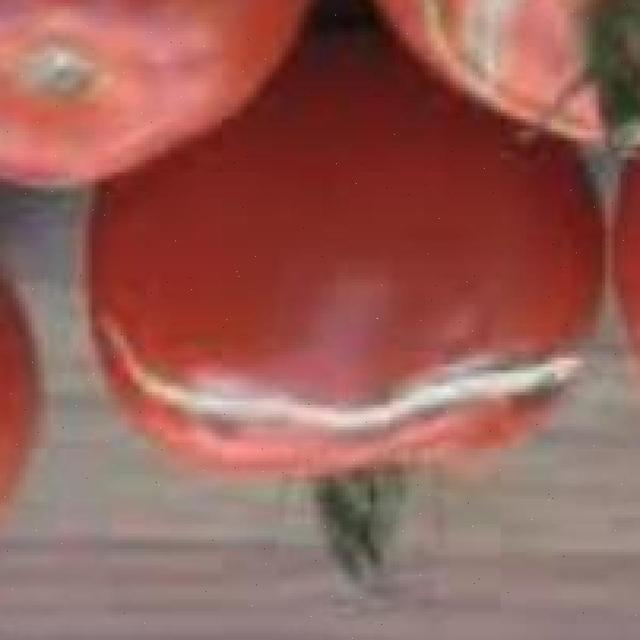Cracking Fruit: (65, 205, 394, 304)
